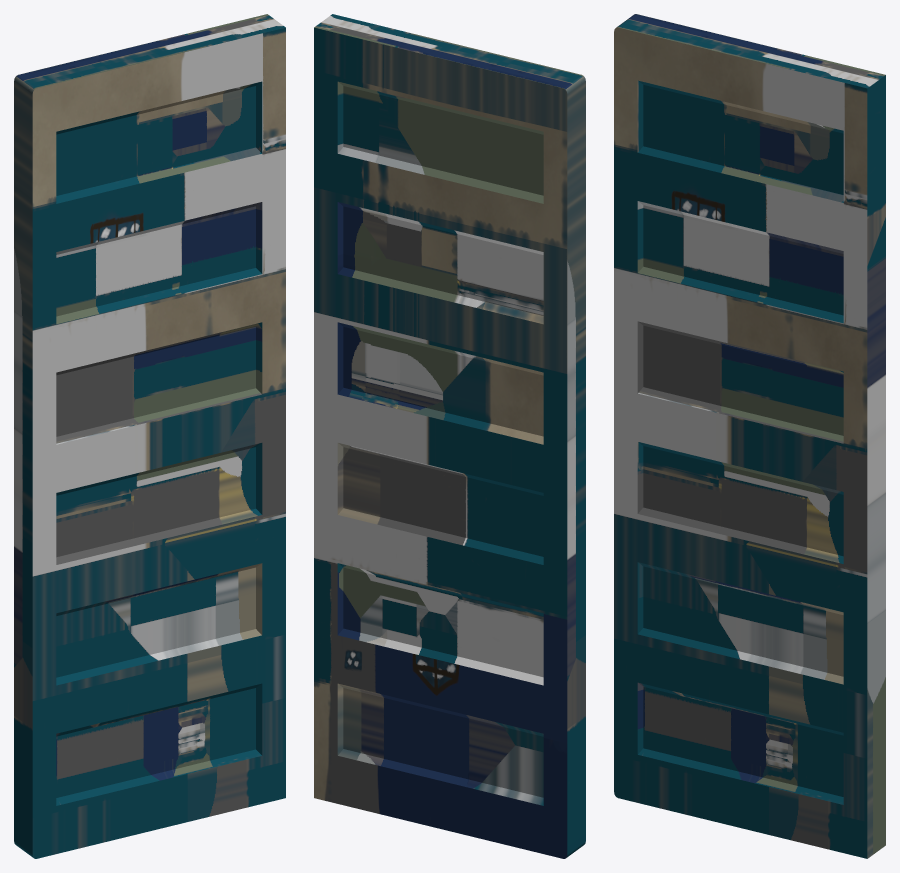
The model's file is KnitneyDoorRight.fbx.
The picture shows the model from 3 angles, left to right: view 1: azimuth 30°, elevation 25°; view 2: azimuth 150°, elevation 25°; view 3: azimuth 330°, elevation 25°; orthographic projection.
Parts seen in each view (by area): view 1: KnitneysDoor1; view 2: KnitneysDoor1; view 3: KnitneysDoor1.
Part boxes in pixels (bbox=[...]): KnitneysDoor1: bbox=[14, 14, 285, 858]; KnitneysDoor1: bbox=[314, 14, 585, 858]; KnitneysDoor1: bbox=[614, 14, 885, 858].
Size of the model in its own units: 2.25 by 6.53 by 0.2843.
